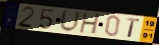0: (104, 15, 121, 38)
2: (18, 6, 36, 29)
5: (38, 8, 55, 30)
H: (78, 12, 102, 36)
T: (126, 18, 141, 39)
U: (59, 9, 82, 34)
